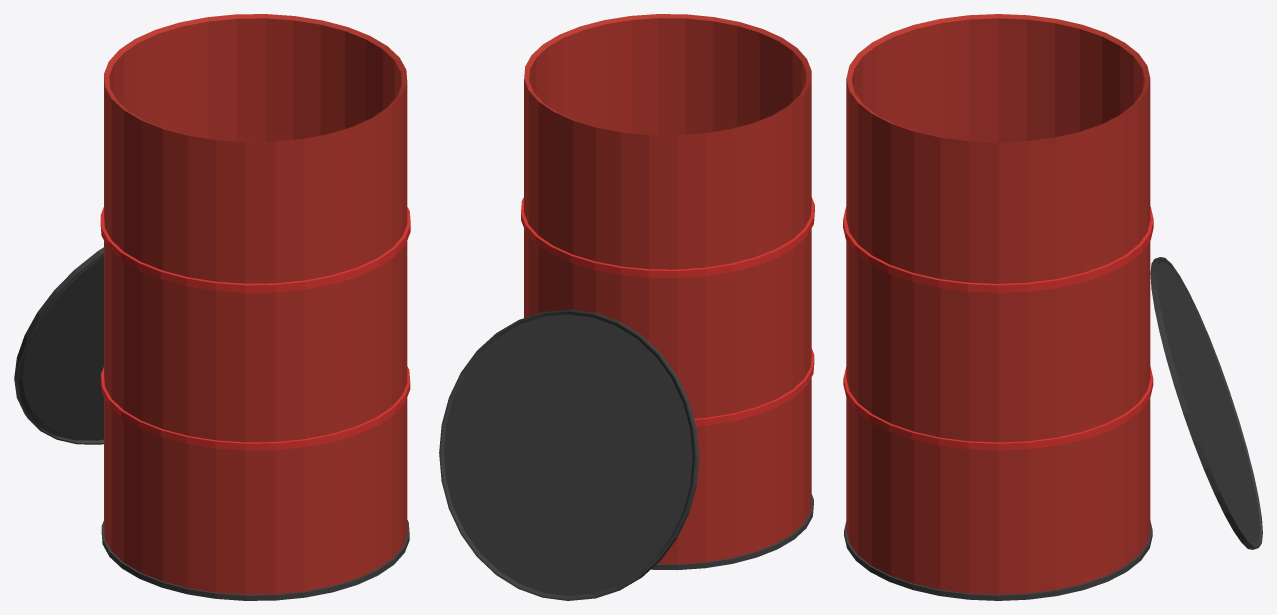
The model's file is BarrelWithOneLid(Metal).fbx.
3 views of the same model, side by side, from view 1: azimuth 30°, elevation 25°; view 2: azimuth 150°, elevation 25°; view 3: azimuth 270°, elevation 25° (orthographic). The views are drawn at different scales.
Parts seen in each view (by area): view 1: MetalBarrel.002; view 2: MetalBarrel.002; view 3: MetalBarrel.002.
Boxes of the visible parts, x1,y1,x2,y2 form: MetalBarrel.002: [14, 14, 410, 600]; MetalBarrel.002: [439, 14, 814, 600]; MetalBarrel.002: [843, 14, 1262, 600].
Bounding box in the file's own units: 364 × 591 × 492.
